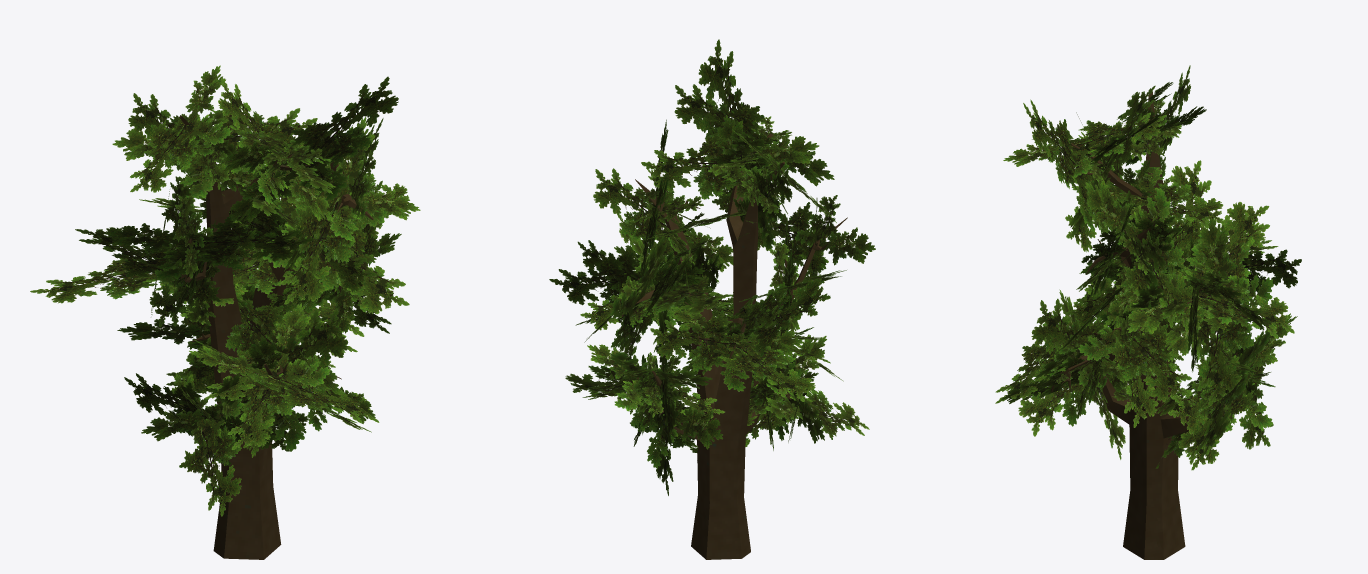
File: Boom 3 af.fbx
3 views of the same model, side by side, from view 1: azimuth 30°, elevation 25°; view 2: azimuth 150°, elevation 25°; view 3: azimuth 270°, elevation 25° (orthographic). The views are drawn at different scales.
Visible parts, largest first — view 1: Goedeboom 3, Plane.212, Plane.095, Plane.167, Plane.083, Plane.130, Plane.137, Plane.093, Plane.073, Plane.126, Plane.123, Plane.102 (+29 smaller); view 2: Goedeboom 3, Plane.116, Plane.104, Plane.071, Plane.095, Plane.100, Plane.114, Plane.118, Plane.184, Plane.162, Plane.212, Plane.178 (+24 smaller); view 3: Goedeboom 3, Plane.178, Plane.070, Plane.192, Plane.185, Plane.180, Plane.106, Plane.212, Plane.099, Plane.154, Plane.126, Plane.162 (+28 smaller).
Boxes of the visible parts, x1,y1,x2,y2 form: Goedeboom 3: (179,115,373,559); Plane.212: (229,76,398,222); Plane.095: (104,217,314,279); Plane.167: (281,117,387,304); Plane.083: (130,65,231,192); Plane.130: (227,303,330,449); Plane.137: (170,373,243,516); Plane.093: (112,108,317,199); Plane.073: (260,164,409,314); Plane.126: (193,308,348,451); Plane.123: (189,341,379,423); Plane.102: (218,78,333,221); Goedeboom 3: (621,133,847,559); Plane.116: (650,310,803,391); Plane.104: (641,128,819,206); Plane.071: (593,168,733,272); Plane.095: (757,202,875,295); Plane.100: (674,84,834,186); Plane.114: (679,278,830,375); Plane.118: (671,306,815,401); Plane.184: (549,253,705,323); Plane.162: (614,354,722,468); Plane.212: (698,39,773,236); Plane.178: (609,234,666,379); Goedeboom 3: (1051,90,1253,559); Plane.178: (1195,214,1273,406); Plane.070: (1085,180,1194,331); Plane.192: (1078,274,1191,401); Plane.185: (1129,246,1294,338); Plane.180: (1153,202,1269,361); Plane.106: (1003,112,1166,177); Plane.212: (1023,99,1117,232); Plane.099: (1071,163,1224,228); Plane.154: (1178,313,1291,464); Plane.126: (1031,298,1131,426); Plane.162: (1167,335,1277,435).
Size of the model in its own units: 623 by 831 by 598.
